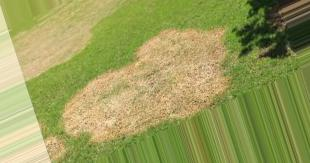patch: (145, 45, 206, 106), (125, 68, 187, 113), (91, 87, 155, 125), (24, 34, 75, 58), (69, 103, 111, 125)
